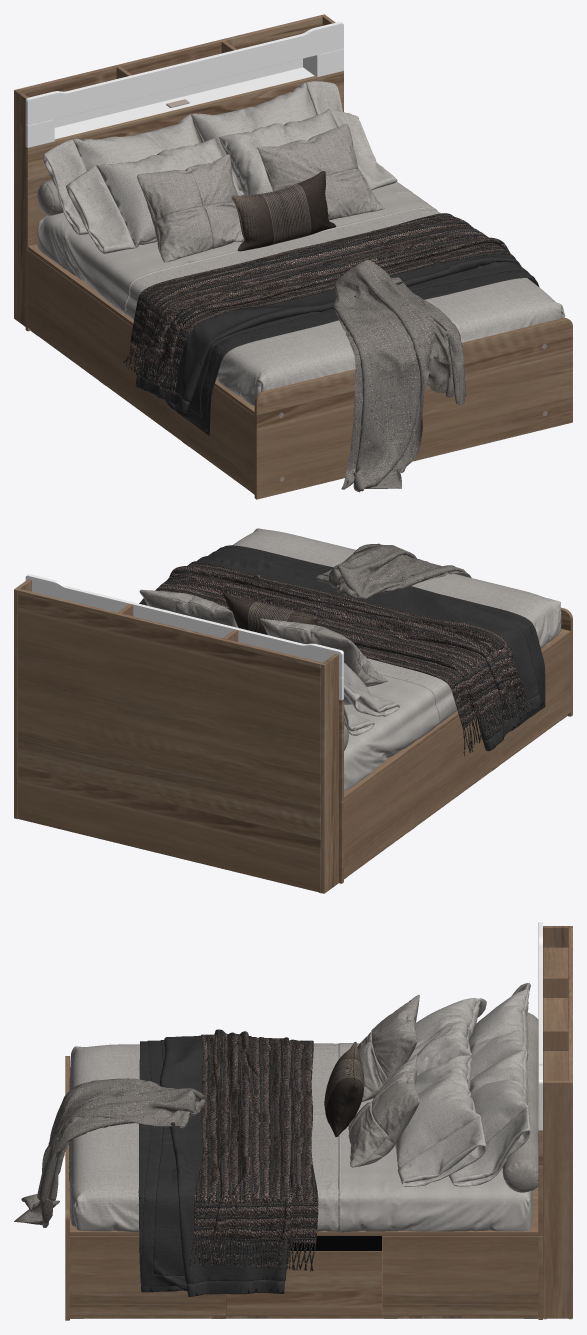
File: MEGA_PACK_BED__bed-117944_Frame_Q_Teak.glb
The picture shows the model from 3 angles, top to bottom: view 1: azimuth 30°, elevation 25°; view 2: azimuth 150°, elevation 25°; view 3: azimuth 270°, elevation 25°; orthographic projection. The views are drawn at different scales.
Visible parts, largest first — view 1: bed-117944_Frame_Q_Teak; view 2: bed-117944_Frame_Q_Teak; view 3: bed-117944_Frame_Q_Teak.
Part boxes in pixels (x1=…): bed-117944_Frame_Q_Teak: x1=14, y1=14, x2=572, y2=499; bed-117944_Frame_Q_Teak: x1=14, y1=528, x2=572, y2=893; bed-117944_Frame_Q_Teak: x1=14, y1=922, x2=572, y2=1320.
Size of the model in its own units: 1.94 by 1.15 by 2.43.
9 materials, 8 textured.
